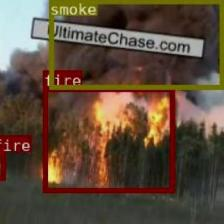fire: (42, 87, 174, 192), (0, 151, 5, 179)
smoke: (48, 0, 223, 89)
